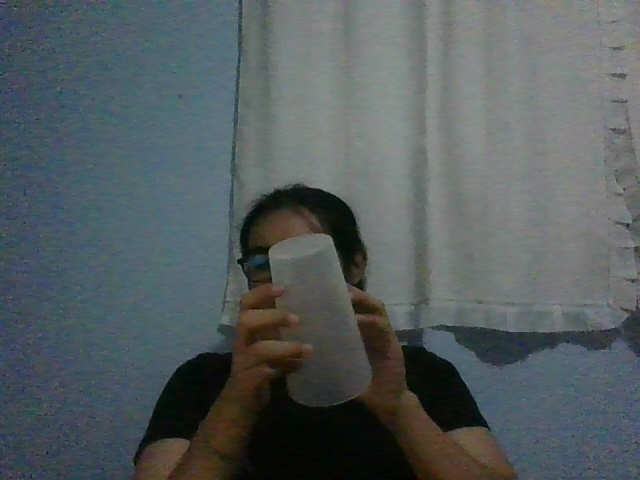vaso: (267, 233, 373, 408)
